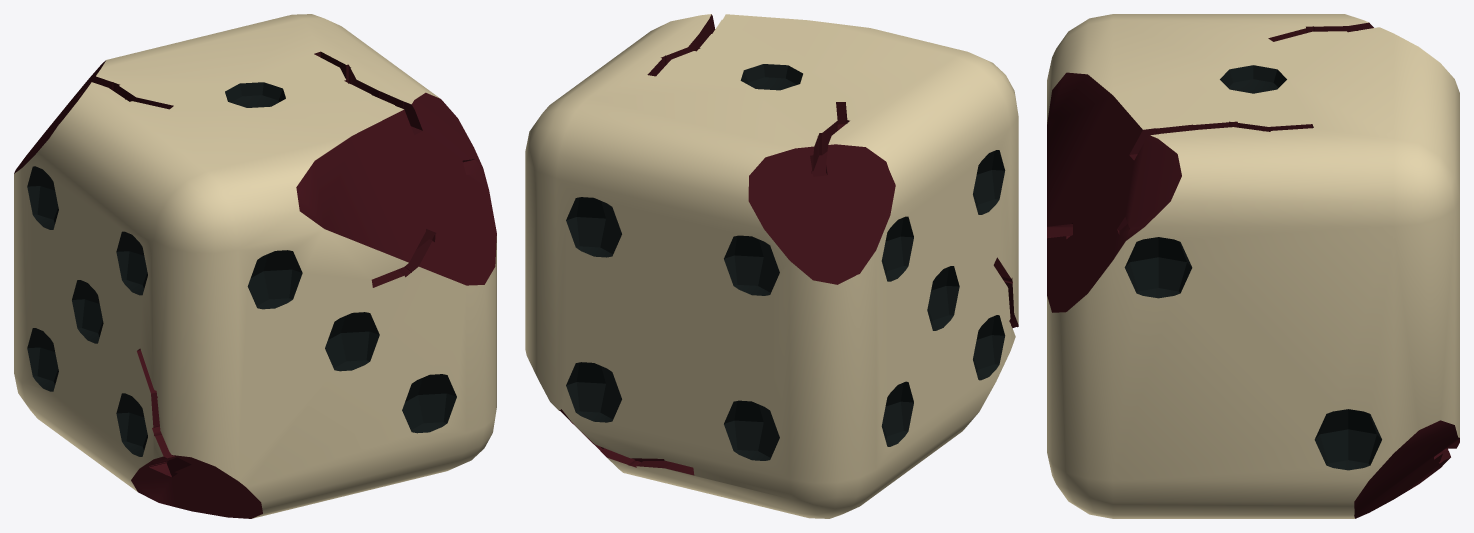
File: cracked_d6.glb
3 views of the same model, side by side, from view 1: azimuth 30°, elevation 25°; view 2: azimuth 150°, elevation 25°; view 3: azimuth 270°, elevation 25° (orthographic). The views are drawn at different scales.
Parts seen in each view (by area): view 1: CrackedD6; view 2: CrackedD6; view 3: CrackedD6.
Boxes of the visible parts, bbox=[...] form: CrackedD6: bbox=[14, 14, 496, 518]; CrackedD6: bbox=[525, 14, 1018, 518]; CrackedD6: bbox=[1047, 14, 1459, 518].
Size of the model in its own units: 0.08 by 0.08 by 0.08.
